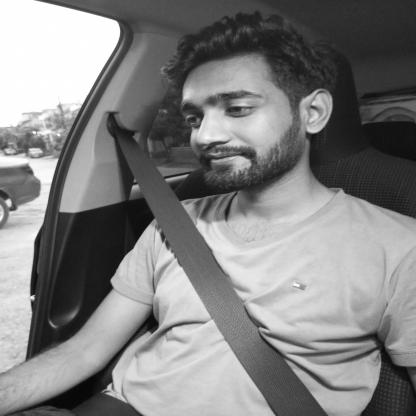seatbelt: (147, 15, 341, 362)
